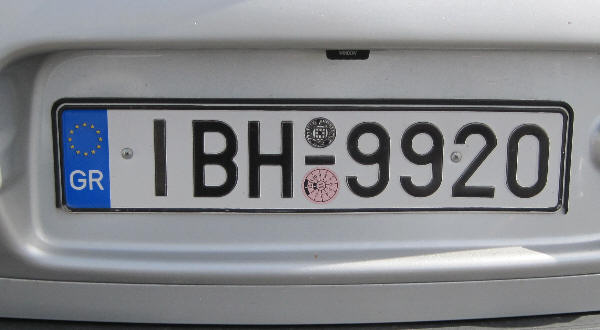license_plate: (57, 105, 565, 211)
